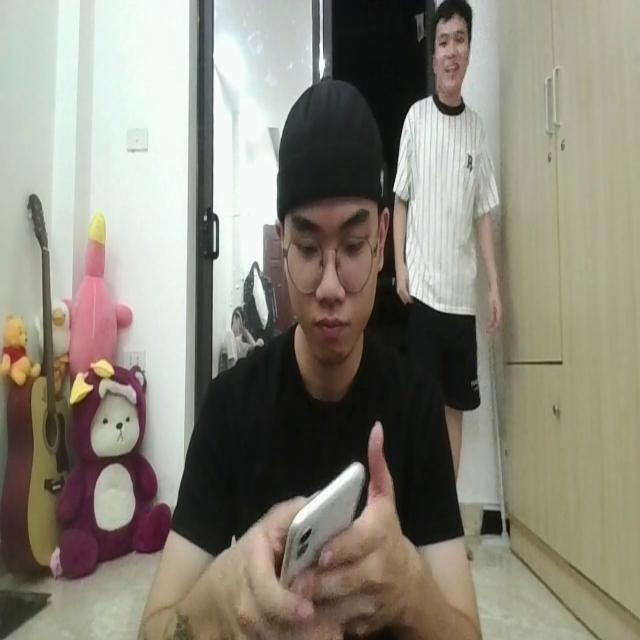extra_person: (399, 0, 500, 429)
phone: (273, 447, 364, 588)
student: (151, 80, 471, 640)
